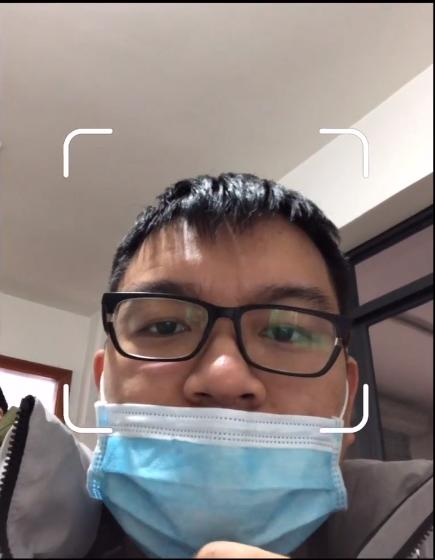WRONG: (99, 257, 343, 560)
